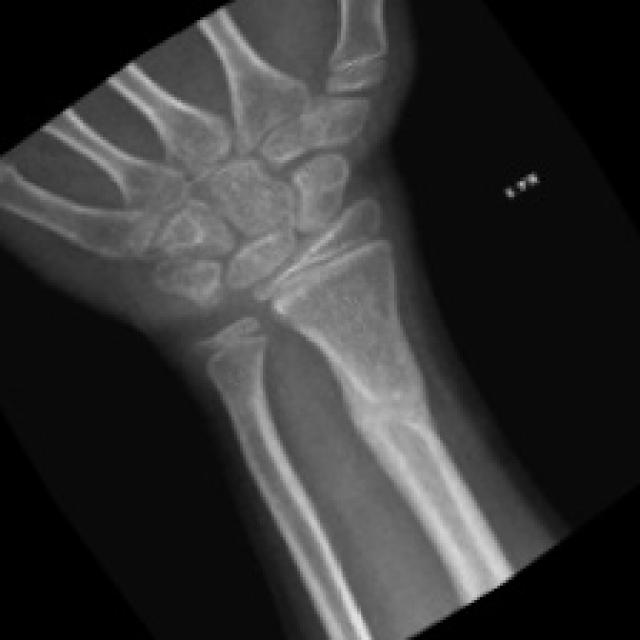fracture: (302, 342, 469, 452)
